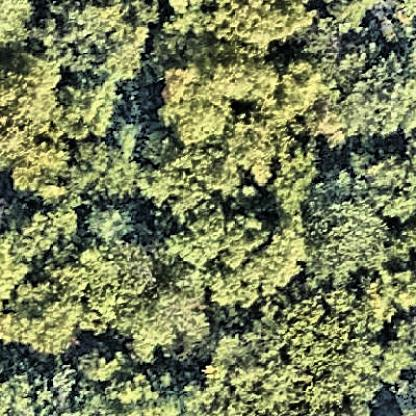tree-top: (218, 292, 378, 416), (162, 62, 311, 184), (87, 244, 217, 349), (1, 208, 91, 349), (35, 1, 161, 83), (164, 1, 320, 62), (204, 221, 306, 311), (1, 43, 67, 173), (298, 190, 391, 282), (68, 124, 169, 208), (329, 41, 416, 137), (170, 198, 276, 271), (1, 350, 83, 416), (354, 148, 416, 218), (58, 78, 124, 140), (353, 272, 416, 334), (77, 199, 143, 248), (376, 316, 416, 387), (77, 340, 126, 389), (1, 1, 40, 50)
